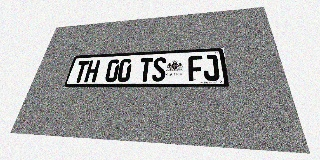0: (116, 58, 132, 82), (104, 59, 120, 82)
F: (188, 55, 204, 81)
H: (84, 60, 100, 82)
J: (202, 55, 220, 81)
S: (152, 57, 166, 81)
T: (72, 60, 90, 83), (138, 58, 153, 82)
